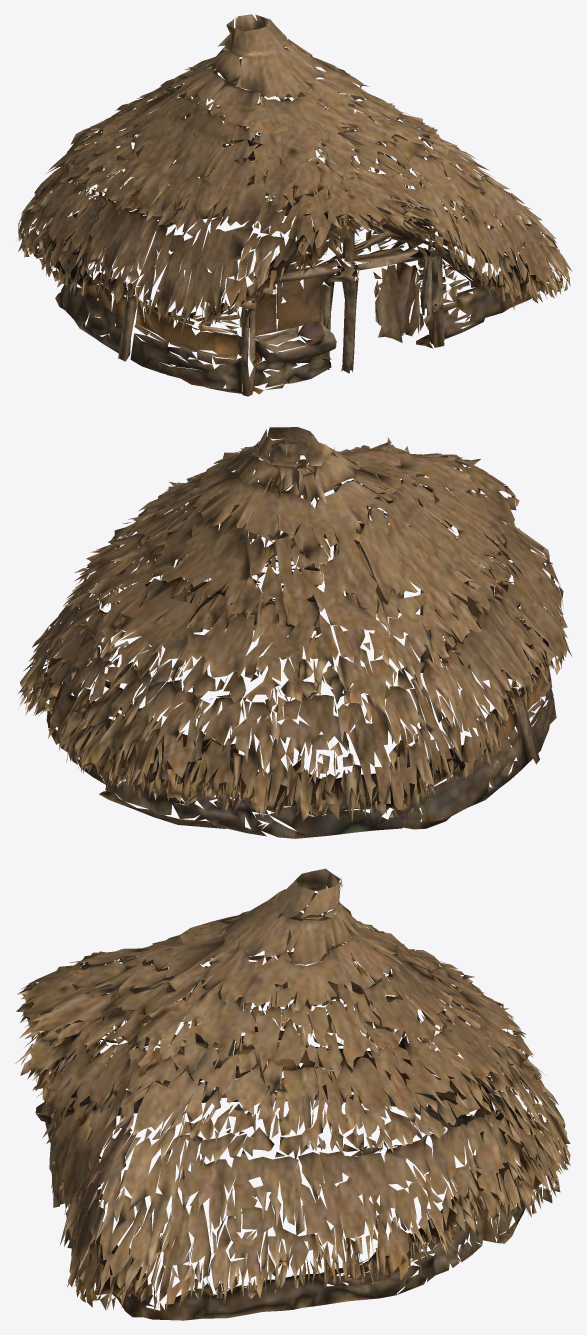
The model's file is study_far.glb.
3 renders of one model, top to bottom at view 1: azimuth 30°, elevation 25°; view 2: azimuth 150°, elevation 25°; view 3: azimuth 270°, elevation 25°, orthographic. The views are drawn at different scales.
Visible parts, largest first — view 1: model; view 2: model; view 3: model.
Boxes of the visible parts, x1=… form: model: x1=18, y1=14, x2=572, y2=396; model: x1=18, y1=427, x2=572, y2=838; model: x1=15, y1=868, x2=570, y2=1320.
Bounding box in the file's own units: 0.9979 × 0.6103 × 0.9753.
Materials: 1 (1 with a texture image).
